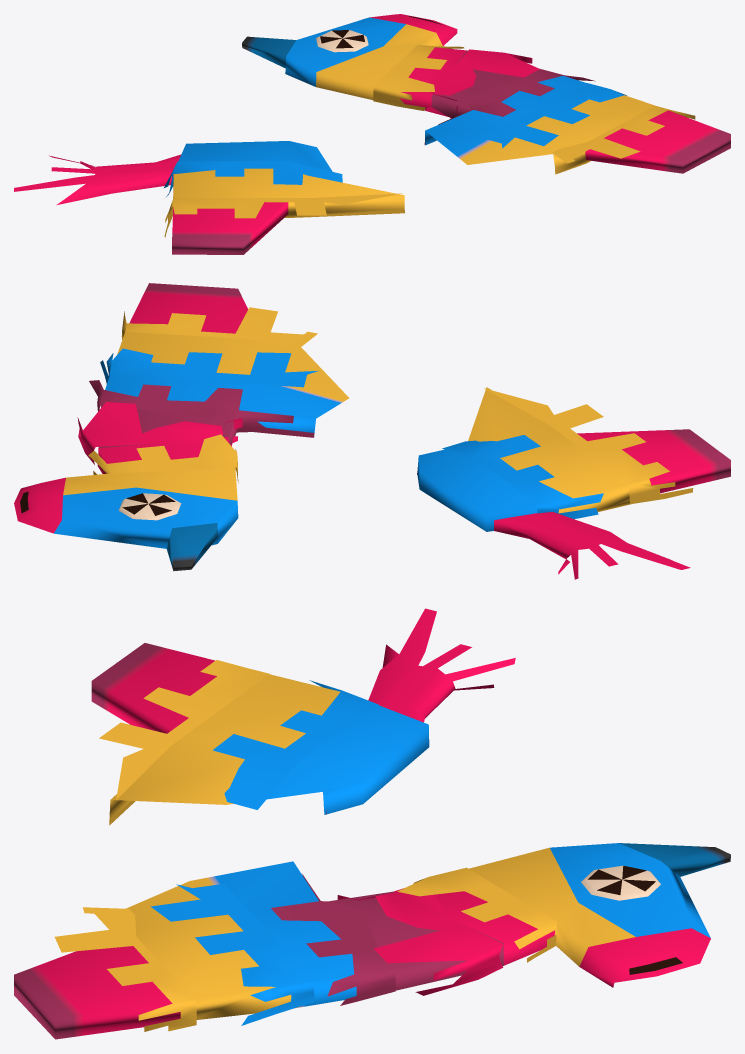
Rendered from pinata_broken.glb.
The picture shows the model from 3 angles, top to bottom: view 1: azimuth 30°, elevation 25°; view 2: azimuth 150°, elevation 25°; view 3: azimuth 270°, elevation 25°; orthographic projection. The views are drawn at different scales.
Parts seen in each view (by area): view 1: pinata_llama_broken; view 2: pinata_llama_broken; view 3: pinata_llama_broken.
Boxes of the visible parts, x1,y1,x2,y2 form: pinata_llama_broken: (14,14,730,254); pinata_llama_broken: (14,283,730,579); pinata_llama_broken: (14,608,730,1039).
Size of what is drawn, in the model's own units: 0.9418 by 0.0352 by 0.6793.
1 material, 1 textured.
